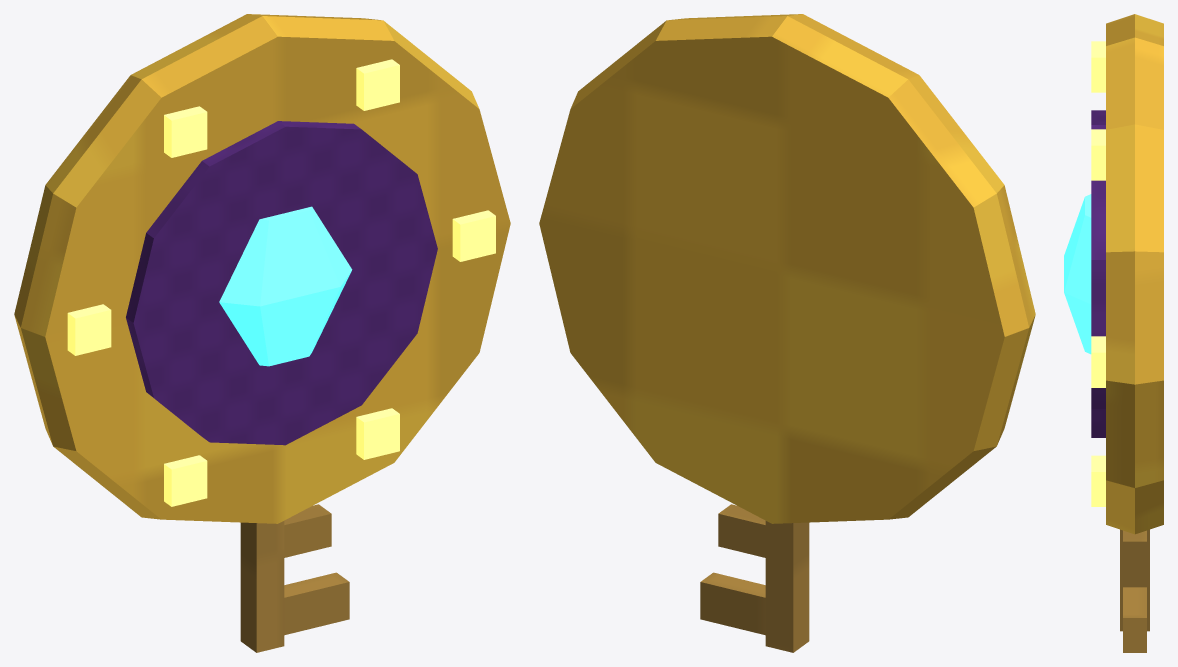
Rendered from SM_Prop_CipherKey_HQ.glb.
3 views of the same model, side by side, from view 1: azimuth 30°, elevation 25°; view 2: azimuth 150°, elevation 25°; view 3: azimuth 270°, elevation 25° (orthographic). The views are drawn at different scales.
Parts seen in each view (by area): view 1: SM_Prop_CipherKey_HQ; view 2: SM_Prop_CipherKey_HQ; view 3: SM_Prop_CipherKey_HQ.
Boxes of the visible parts, left/top/right/bottom form: SM_Prop_CipherKey_HQ: left=14, top=14, right=510, bottom=652; SM_Prop_CipherKey_HQ: left=539, top=14, right=1035, bottom=652; SM_Prop_CipherKey_HQ: left=1064, top=14, right=1163, bottom=652.
Bounding box in the file's own units: 0.54 × 0.67 × 0.1033.
Materials: 1 (1 with a texture image).
